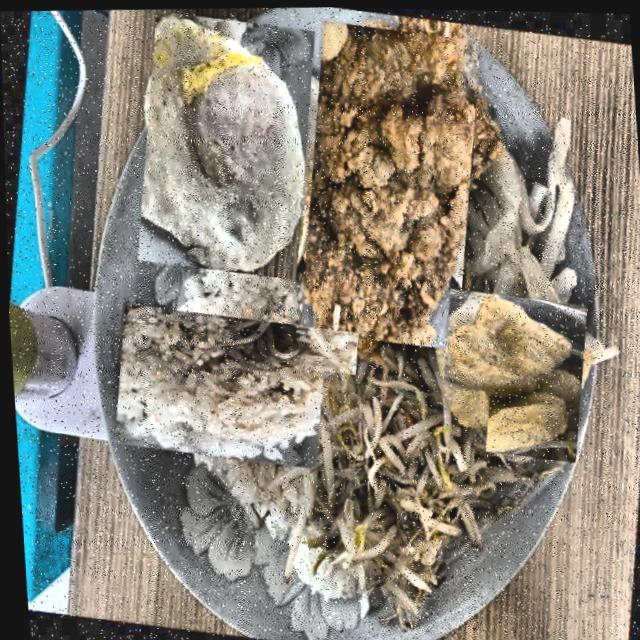Food: (279, 12, 498, 355), (120, 3, 329, 285), (290, 362, 500, 617), (122, 275, 346, 498), (422, 284, 599, 460)
